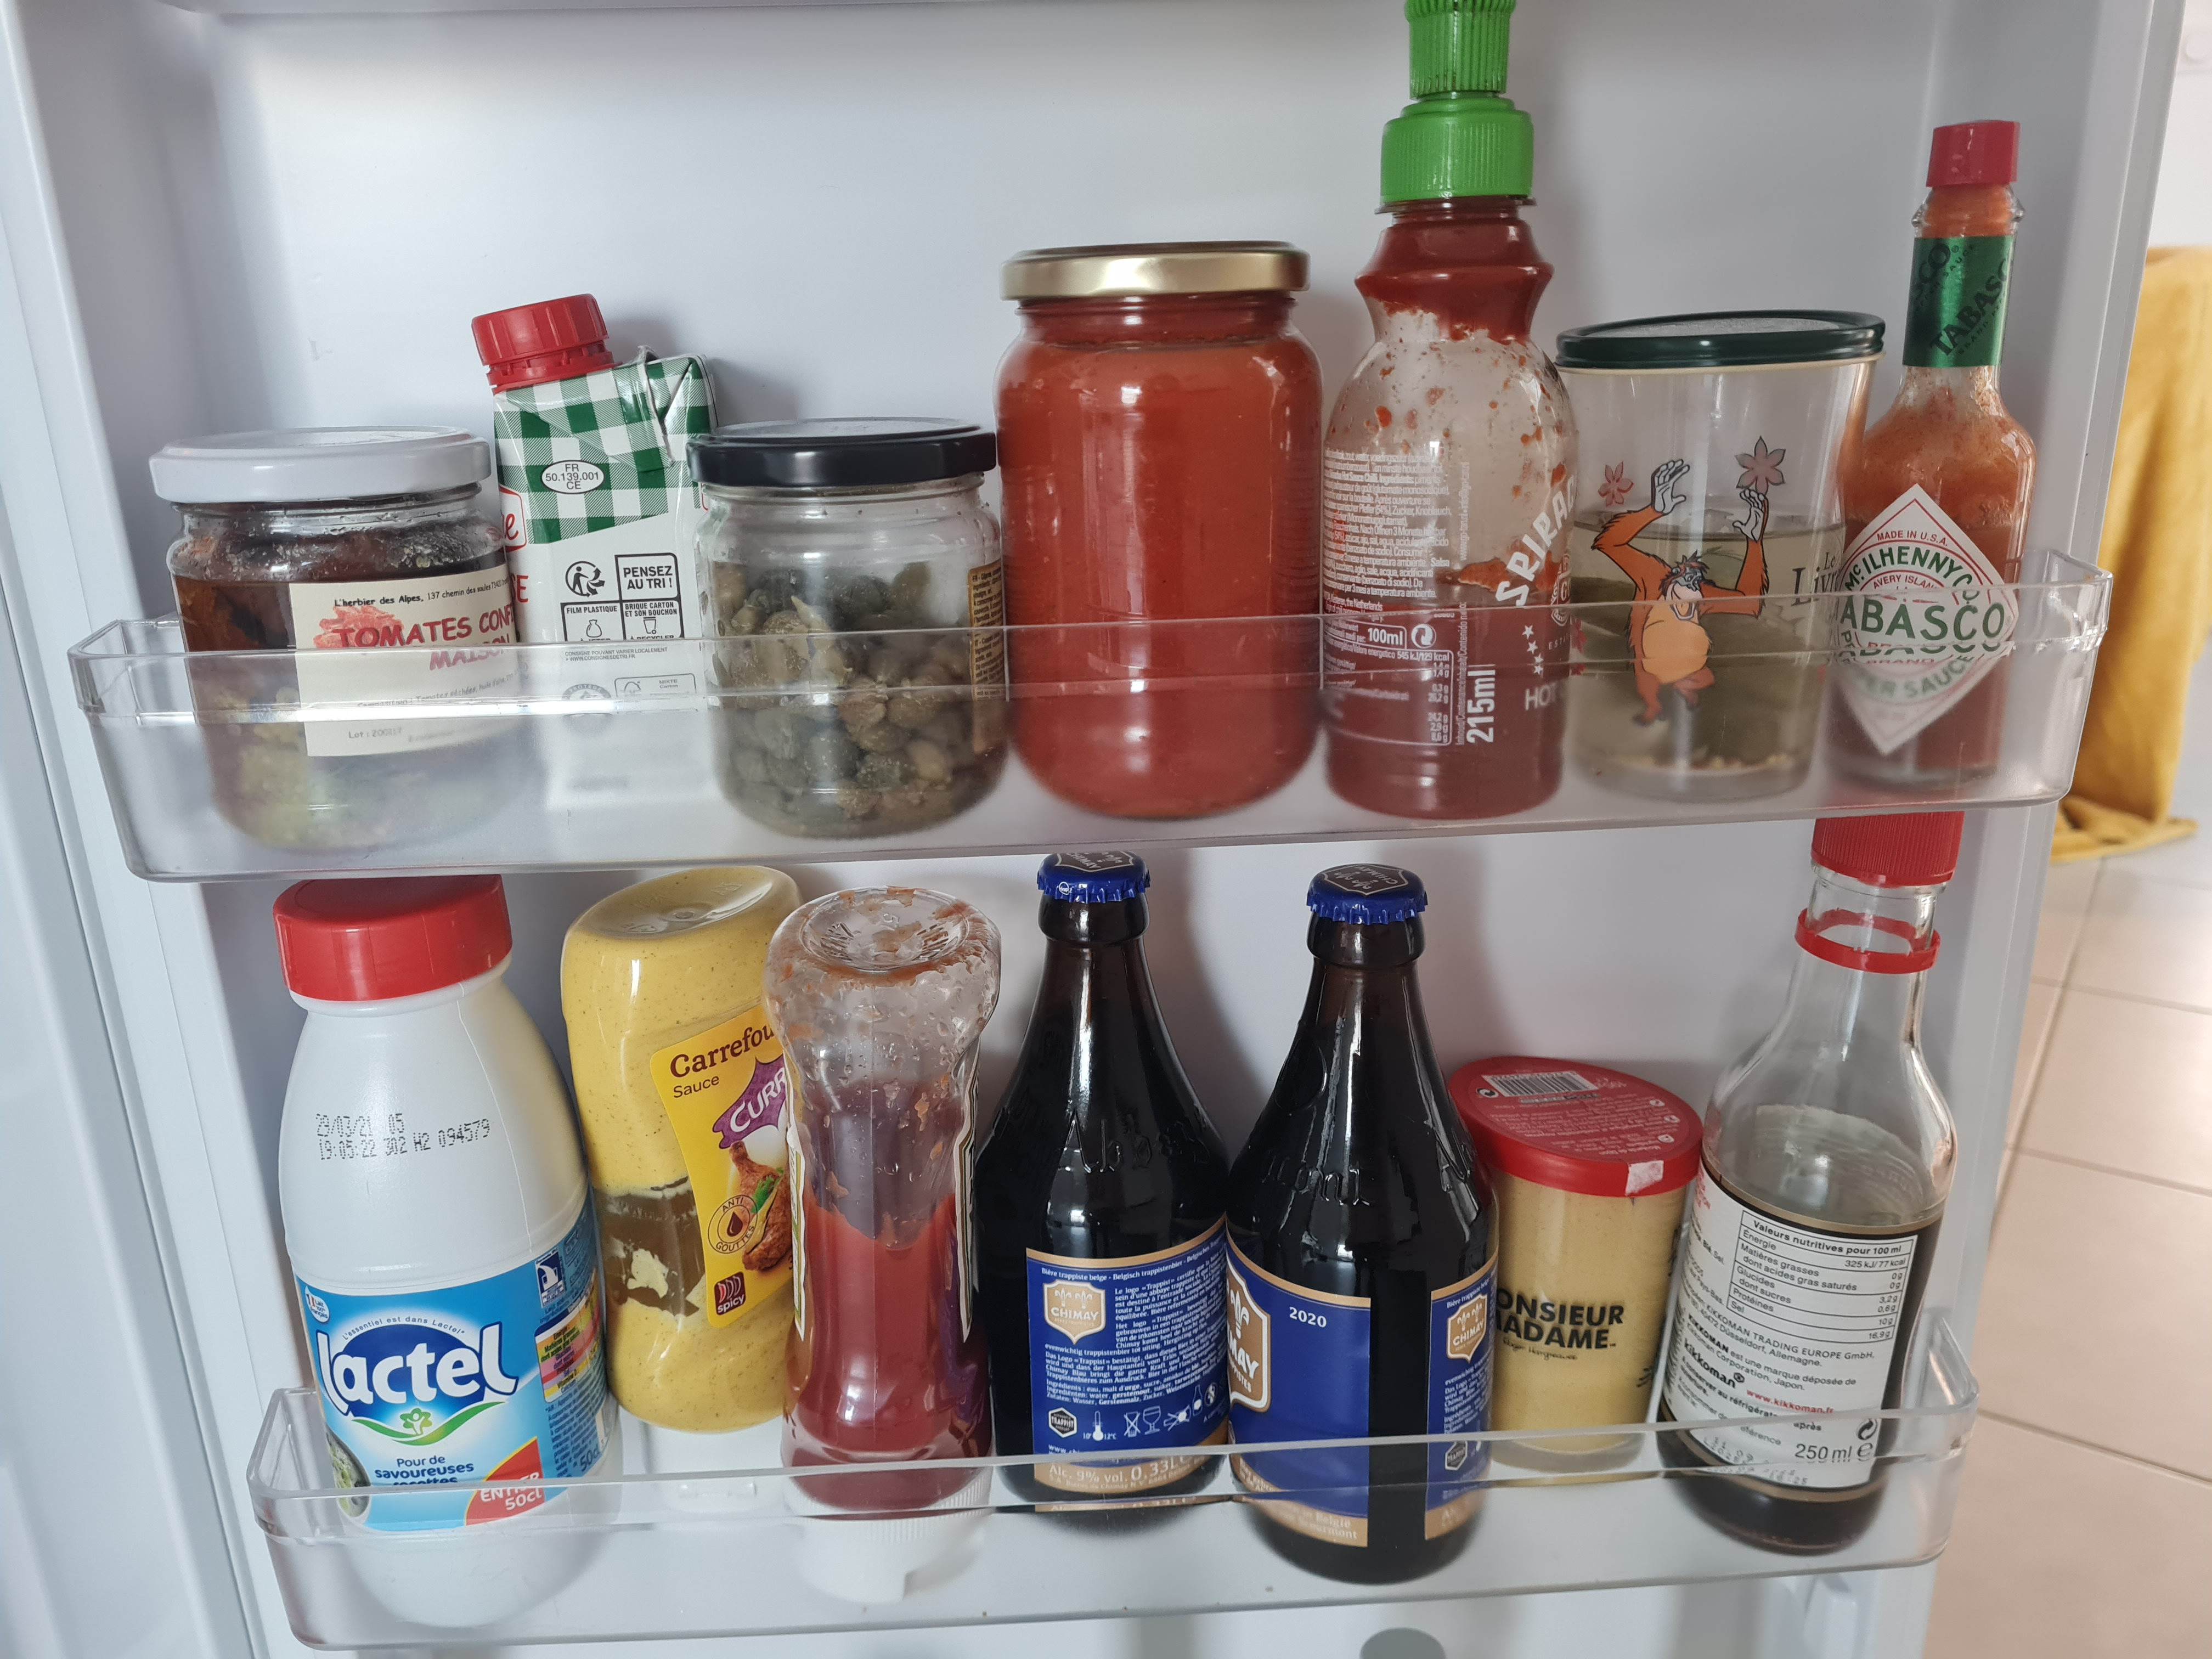bottle: (1235, 864, 1496, 1588), (975, 854, 1231, 1528)
cream: (477, 289, 725, 791)
milk: (277, 880, 625, 1629)
